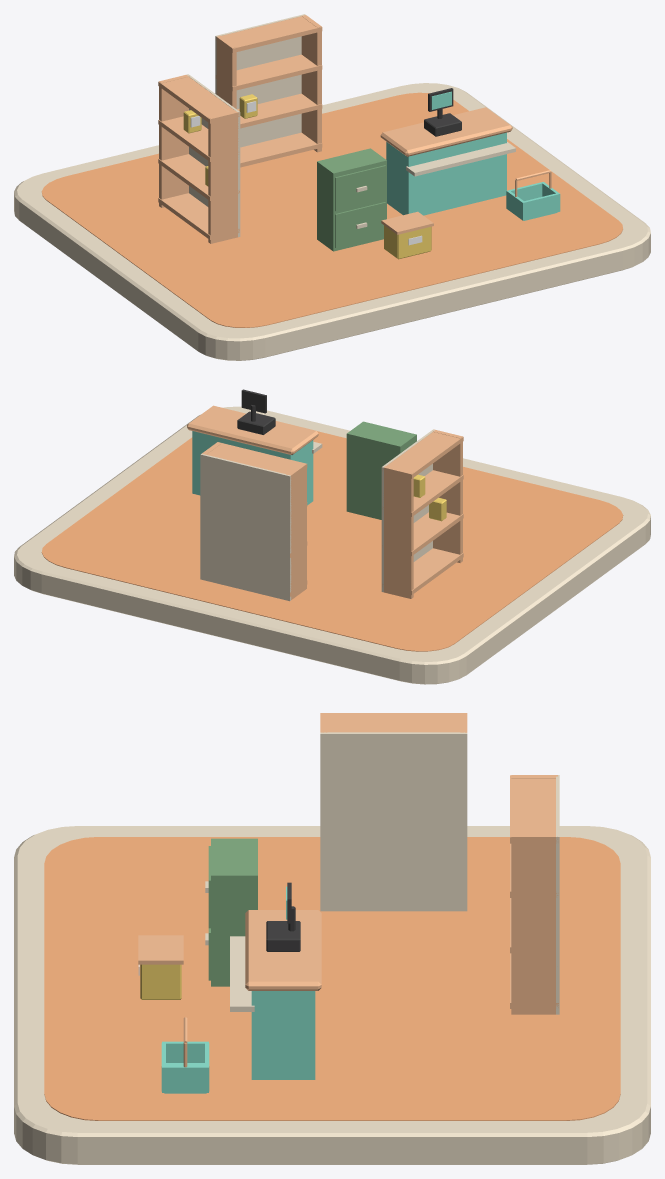
File: room.fbx
The picture shows the model from 3 angles, top to bottom: view 1: azimuth 30°, elevation 25°; view 2: azimuth 150°, elevation 25°; view 3: azimuth 270°, elevation 25°; orthographic projection. The views are drawn at different scales.
Parts seen in each view (by area): view 1: COM-02 Floor Surface, COM-01 Rounded Base Direct, Counter body, Cabinet, Back.001, Side.001, Countertop, Side, Side.003, Shelf.007, Shelf.006, Shelf.003 (+12 smaller); view 2: COM-02 Floor Surface, COM-01 Rounded Base Direct, Back.001, Cabinet, Side, Countertop, Side.002, Side.001, Counter body, Shelf.003, Shelf, Shelf.007 (+5 smaller); view 3: COM-02 Floor Surface, COM-01 Rounded Base Direct, Back, Side.003, Counter body, Cabinet, Countertop, Shelf.007, Shelf.003, Box, Lid, Visitor shelf (+4 smaller).
Boxes of the visible parts, box(x1,y1,x2,y2) form: COM-02 Floor Surface: box(41, 92, 622, 327); COM-01 Rounded Base Direct: box(14, 83, 650, 360); Counter body: box(386, 132, 506, 215); Cabinet: box(317, 148, 386, 251); Back.001: box(215, 14, 305, 147); Side.001: box(208, 110, 238, 243); Countertop: box(380, 107, 512, 156); Side: box(159, 75, 189, 207); Side.003: box(301, 15, 321, 152); Shelf.007: box(216, 16, 322, 52); Shelf.006: box(215, 54, 322, 91); Shelf.003: box(158, 77, 239, 123); COM-02 Floor Surface: box(41, 431, 623, 651); COM-01 Rounded Base Direct: box(14, 406, 650, 684); Back.001: box(200, 453, 291, 601); Cabinet: box(346, 421, 416, 519); Side: box(384, 465, 413, 598); Countertop: box(187, 405, 318, 454); Side.002: box(286, 463, 306, 599); Side.001: box(433, 429, 462, 562); Counter body: box(192, 431, 313, 505); Shelf.003: box(382, 432, 463, 478); Shelf: box(382, 548, 463, 594); Shelf.007: box(206, 442, 307, 474); COM-02 Floor Surface: box(44, 837, 620, 1120); COM-01 Rounded Base Direct: box(14, 826, 650, 1164); Back: box(320, 732, 467, 911); Side.003: box(511, 834, 557, 1014); Counter body: box(251, 991, 315, 1079); Cabinet: box(205, 838, 257, 986); Countertop: box(245, 910, 321, 990); Shelf.007: box(510, 775, 558, 843); Shelf.003: box(320, 713, 466, 732); Box: box(140, 964, 181, 999); Lid: box(138, 935, 183, 964); Visitor shelf: box(230, 936, 254, 1011).
Size of the model in its own units: 600 by 190 by 520.
